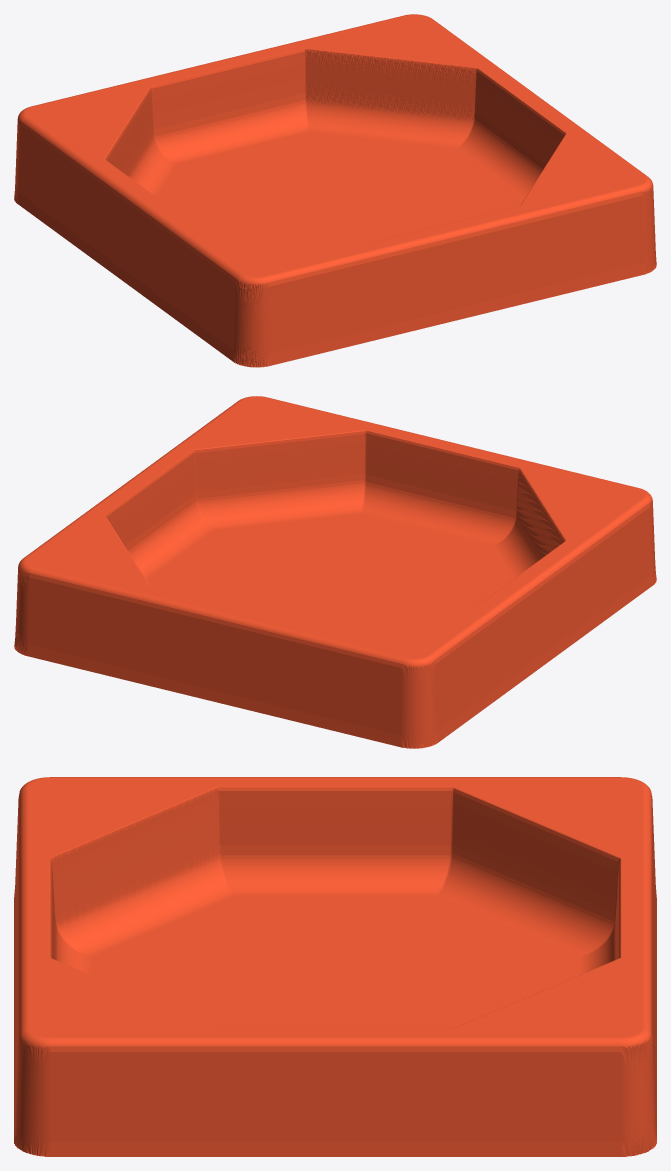
Rendered from mold.glb.
3 renders of one model, top to bottom at view 1: azimuth 30°, elevation 25°; view 2: azimuth 150°, elevation 25°; view 3: azimuth 270°, elevation 25°, orthographic. The views are drawn at different scales.
Visible parts, largest first — view 1: geometry_0; view 2: geometry_0; view 3: geometry_0.
Part boxes in pixels (x1,y1,x2,y2): geometry_0: [14, 14, 656, 367]; geometry_0: [14, 396, 656, 748]; geometry_0: [14, 777, 656, 1156].
Size of the model in its own units: 0.1596 by 0.031 by 0.1596.
